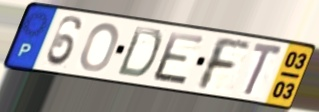6: (43, 15, 85, 70)
D: (114, 25, 164, 81)
E: (150, 30, 207, 88)
F: (196, 34, 253, 93)
O: (79, 21, 121, 73)
T: (240, 40, 286, 98)
